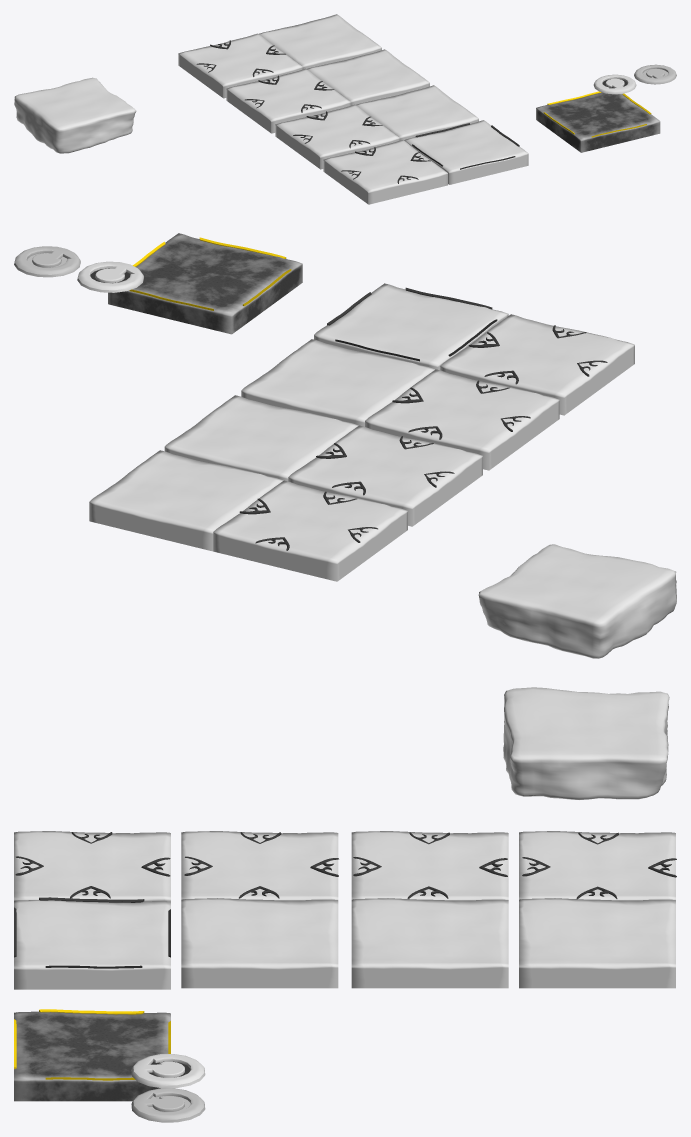
File: Rotate.fbx
3 views of the same model, one above another, from view 1: azimuth 30°, elevation 25°; view 2: azimuth 150°, elevation 25°; view 3: azimuth 270°, elevation 25° (orthographic). The views are drawn at different scales.
Visible parts, largest first — view 1: Cube.002, Cube, Cube.003, Cube.001, Floortile, Cube.004, Cube.006, Cube.005, Circle, Rotate, Cube.007; view 2: Cube, Cube.003, Cube.002, Cube.001, Floortile, Cube.004, Cube.006, Cube.005, Rotate, Circle, Cube.007; view 3: Cube.002, Cube.003, Cube, Cube.001, Cube.006, Floortile, Cube.004, Cube.005, Rotate, Circle, Cube.007.
Part boxes in pixels (box(x1,y1,x2,y2)): Cube.002: box(226, 49, 429, 133); Cube: box(178, 14, 381, 98); Cube.003: box(275, 85, 478, 169); Cube.001: box(14, 77, 136, 153); Floortile: box(536, 91, 660, 152); Cube.004: box(323, 140, 447, 204); Cube.006: box(404, 120, 528, 184); Cube.005: box(196, 40, 430, 183); Circle: box(593, 74, 636, 94); Rotate: box(634, 64, 676, 84); Cube.007: box(412, 123, 519, 169); Cube: box(89, 450, 407, 581); Cube.003: box(241, 339, 559, 470); Cube.002: box(164, 395, 482, 526); Cube.001: box(478, 544, 676, 658); Floortile: box(108, 233, 302, 334); Cube.004: box(440, 314, 634, 415); Cube.006: box(314, 283, 508, 370); Cube.005: box(239, 325, 607, 550); Rotate: box(14, 246, 80, 277); Circle: box(77, 261, 143, 292); Cube.007: box(327, 287, 497, 361); Cube.002: box(351, 831, 508, 988); Cube.003: box(181, 831, 338, 988); Cube: box(519, 831, 675, 988); Cube.001: box(503, 687, 669, 799); Cube.006: box(14, 900, 170, 989); Floortile: box(14, 1009, 170, 1101); Cube.004: box(14, 831, 170, 901); Cube.005: box(15, 832, 676, 899); Rotate: box(131, 1088, 205, 1122); Circle: box(131, 1054, 205, 1088); Cube.007: box(14, 897, 170, 968).
Size of the model in its own units: 340 by 20.48 by 216.
